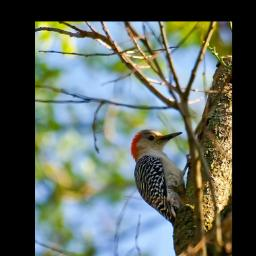Woodpecker: (116, 124, 198, 235)
